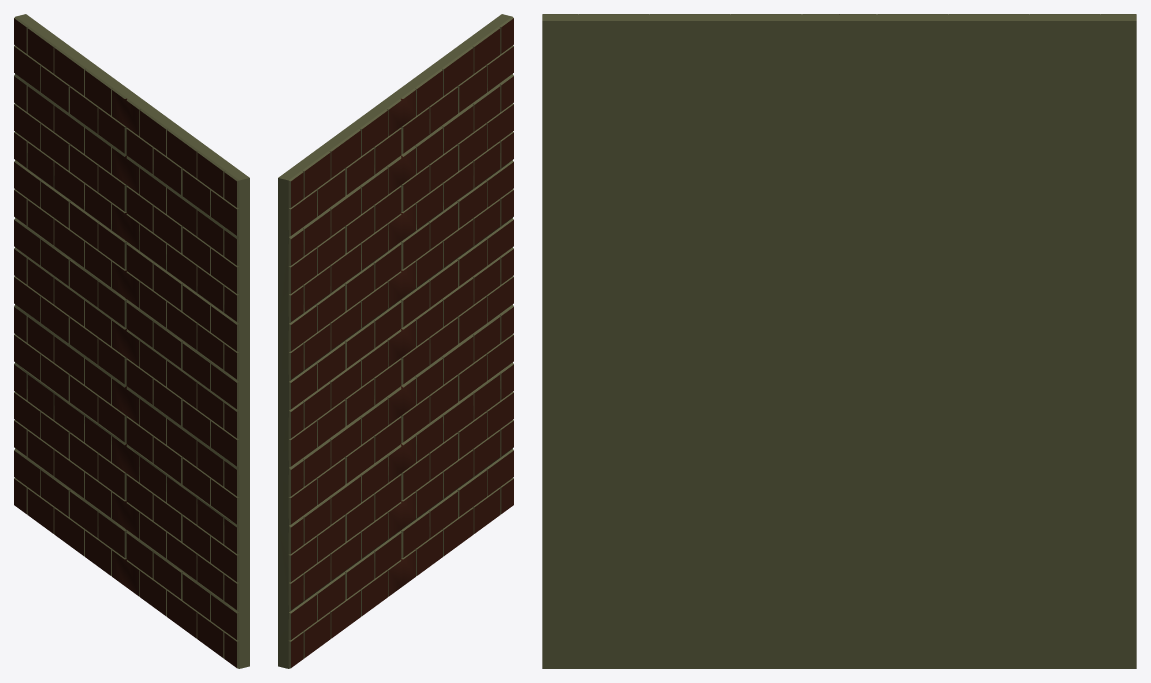
The model's file is BigWall.fbx.
3 renders of one model, left to right at view 1: azimuth 30°, elevation 25°; view 2: azimuth 150°, elevation 25°; view 3: azimuth 270°, elevation 25°, orthographic. The views are drawn at different scales.
Visible parts, largest first — view 1: Box006; view 2: Box006; view 3: Box006.
Part boxes in pixels (x1,y1,x2,y2): Box006: [14, 14, 249, 668]; Box006: [278, 14, 513, 668]; Box006: [542, 14, 1136, 668].
Size of the model in its own units: 6.45 by 241 by 201.
